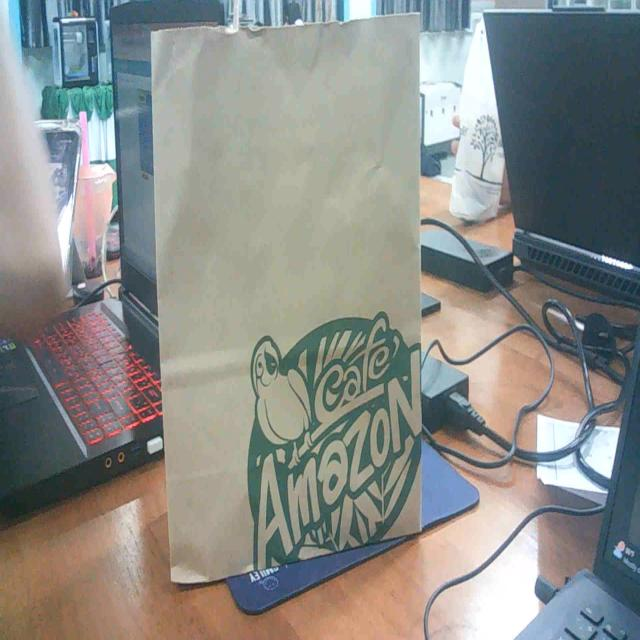bag: (140, 16, 432, 562)
